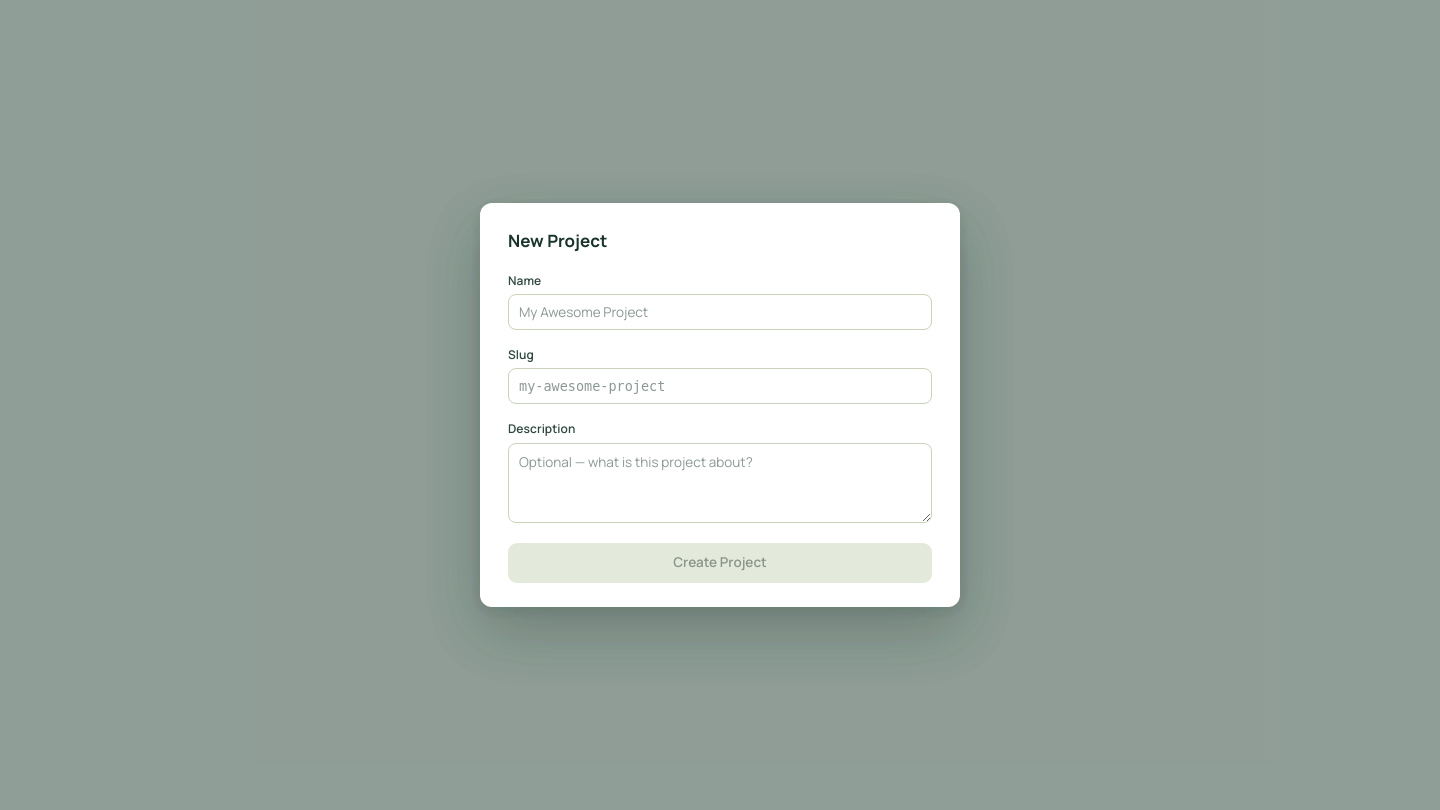
ProjectFormModal — create mode › re-flags slug as taken when submit returns 409
Type "My Project" into the field labelled "Name" at (720, 312), box [508,294,932,330]
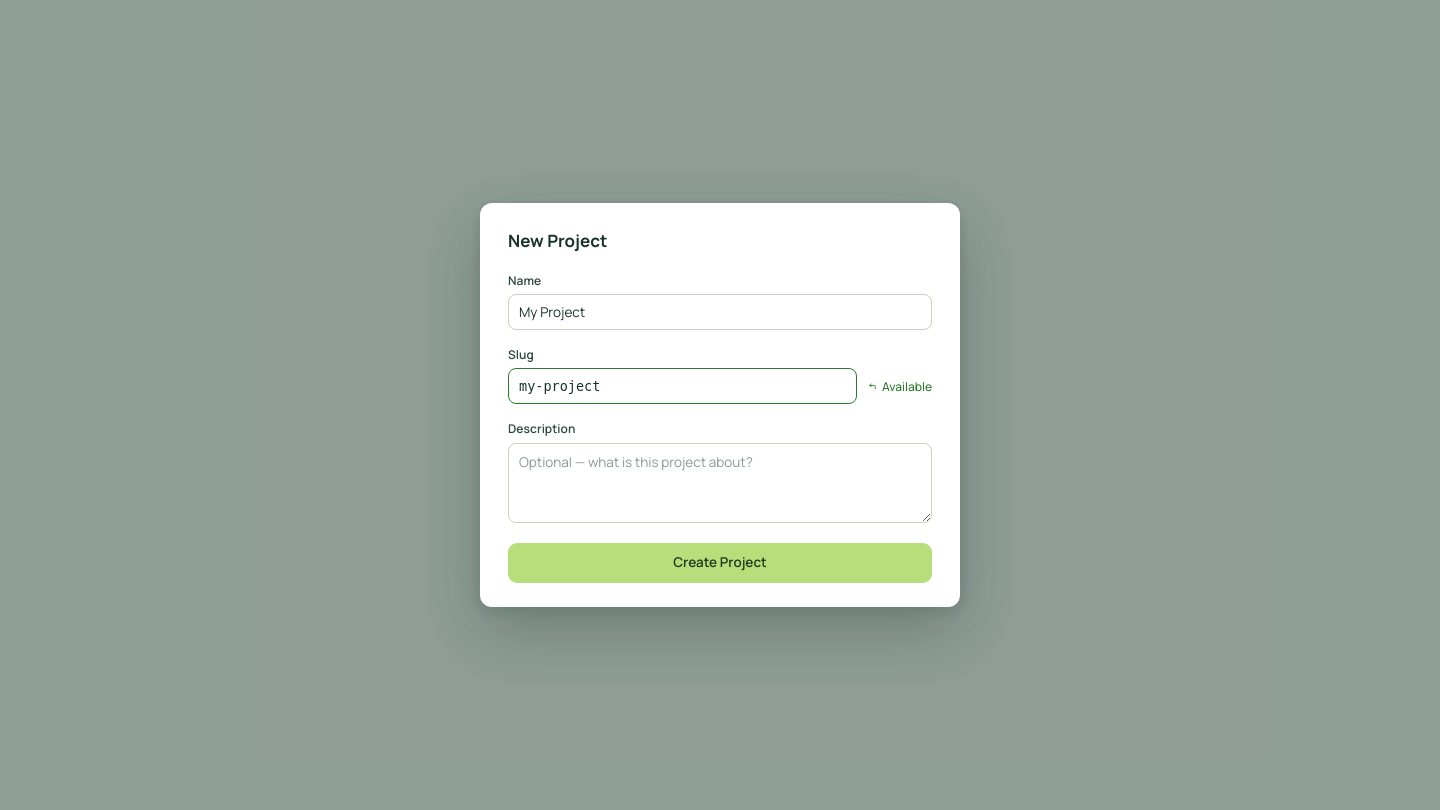
expect the text "Available" is shown: met, box [865,378,932,395]
Use fireEvent (not userEvent) to avoid internal timer conflicts with fake timers
Click the button "Create Project" at (720, 563), box [508,543,932,583]
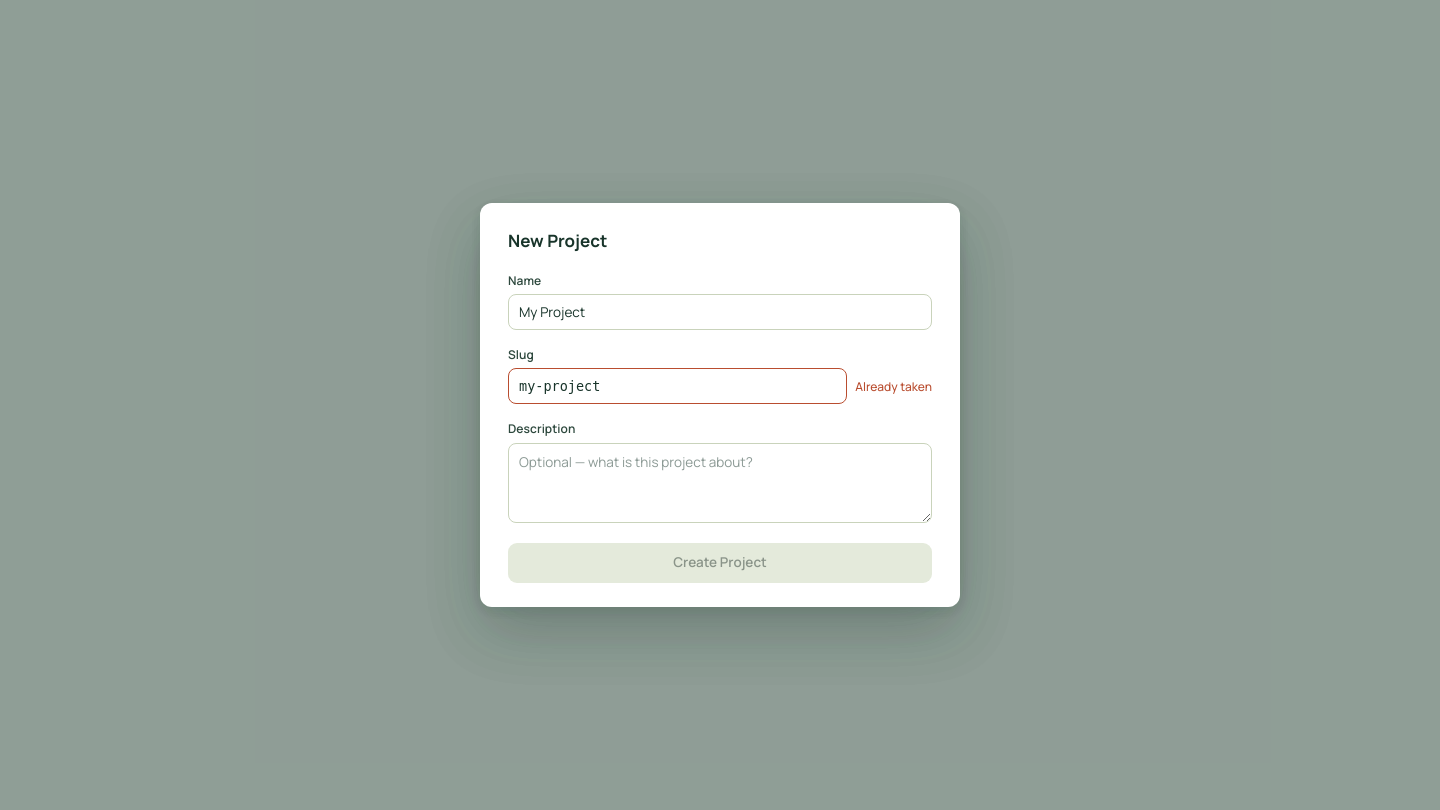
expect the text "Already taken" is shown: met, box [855,378,932,395]
